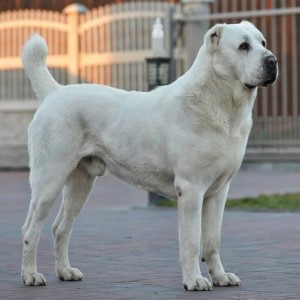dog: (23, 24, 272, 300)
